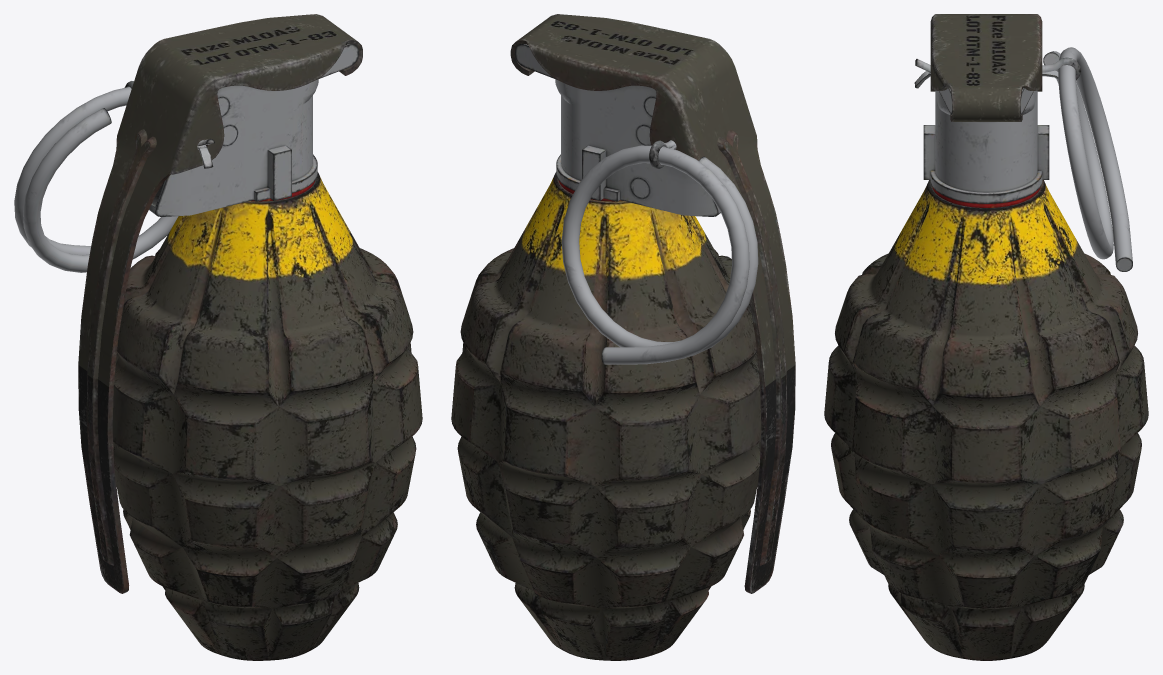
File: grenade.glb
3 renders of one model, left to right at view 1: azimuth 30°, elevation 25°; view 2: azimuth 150°, elevation 25°; view 3: azimuth 270°, elevation 25°, orthographic.
Parts seen in each view (by area): view 1: Base_0, Spoon_4, Fuze_1, Ring_3; view 2: Base_0, Spoon_4, Ring_3, Fuze_1; view 3: Base_0, Spoon_4, Fuze_1, Ring_3, Pin_2.
Part boxes in pixels (bbox=[...]): Base_0: bbox=[112, 172, 422, 660]; Spoon_4: bbox=[78, 14, 362, 593]; Fuze_1: bbox=[149, 43, 358, 216]; Ring_3: bbox=[14, 86, 178, 272]; Base_0: bbox=[451, 172, 761, 660]; Spoon_4: bbox=[510, 14, 795, 593]; Ring_3: bbox=[561, 145, 758, 364]; Fuze_1: bbox=[515, 43, 720, 216]; Base_0: bbox=[824, 180, 1148, 660]; Spoon_4: bbox=[930, 14, 1042, 121]; Fuze_1: bbox=[923, 87, 1049, 203]; Ring_3: bbox=[1043, 47, 1132, 271]; Pin_2: bbox=[914, 57, 1080, 88].
Bounding box in the file's own units: 0.0791 × 0.1353 × 0.0681.
Materials: 1 (1 with a texture image).
